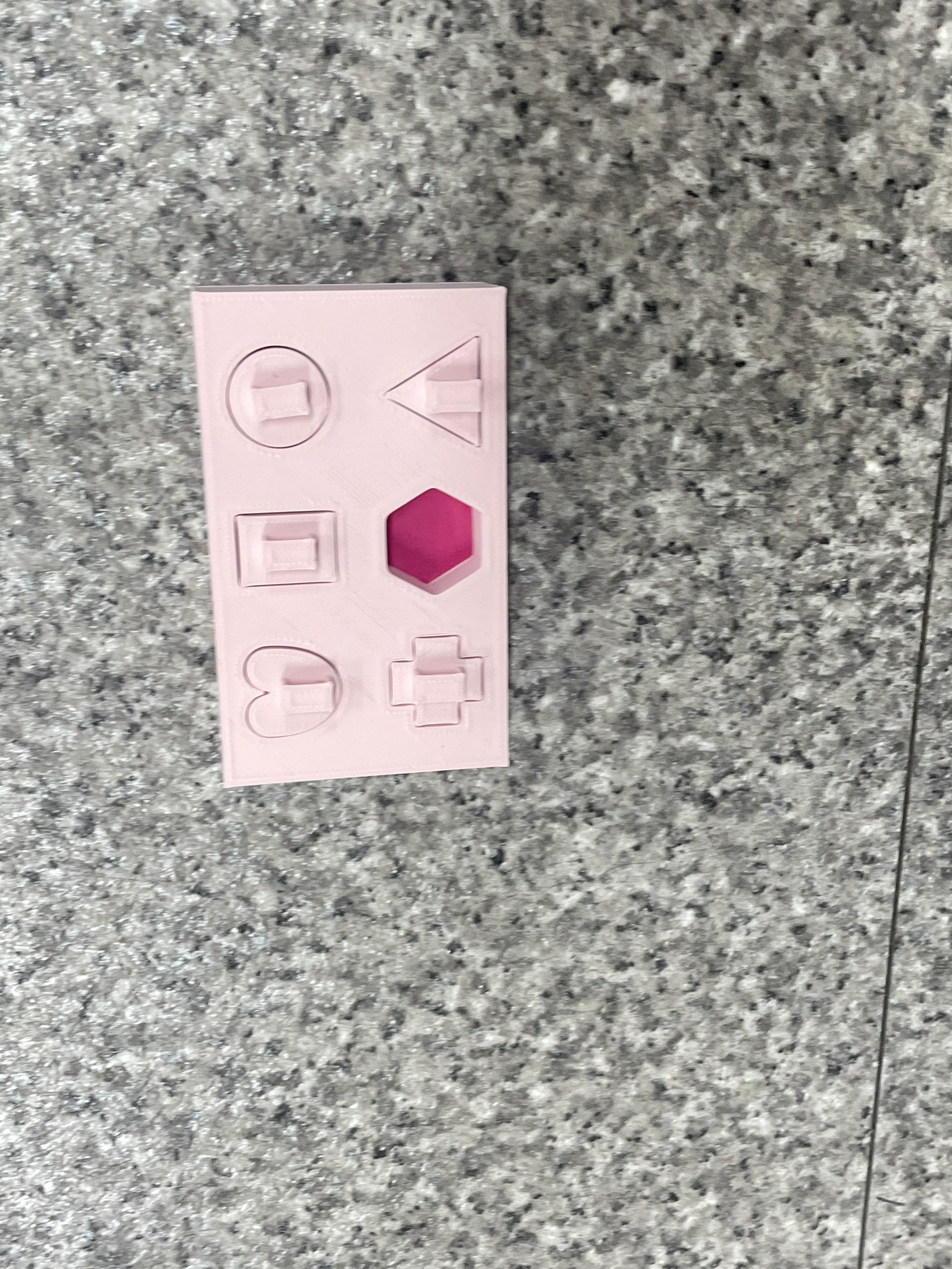unsolved: (186, 256, 543, 812)
